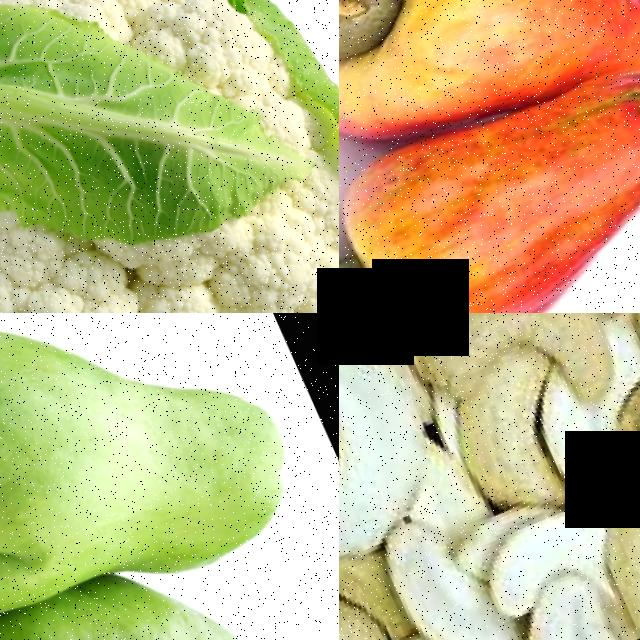cashew: (339, 0, 461, 106)
cauliflower: (0, 0, 339, 313)
chayote: (0, 313, 294, 640), (0, 545, 312, 640)
